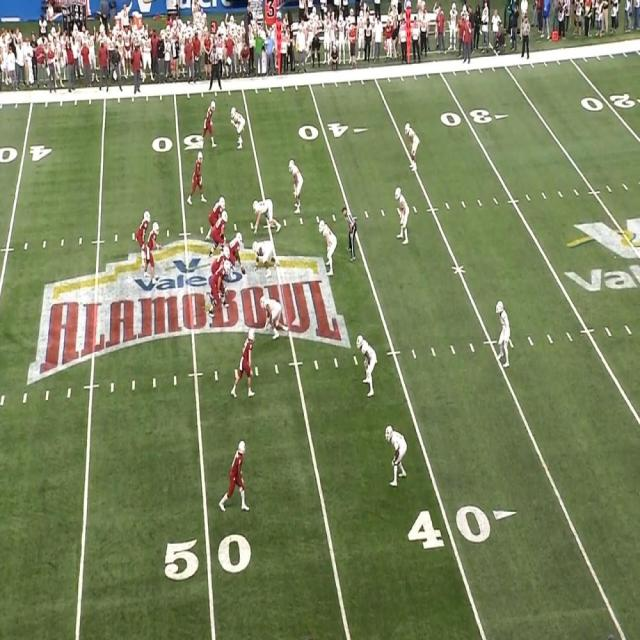center: (228, 233, 245, 267)
db: (385, 424, 409, 484), (494, 299, 511, 367), (395, 188, 413, 240), (404, 121, 422, 169), (231, 105, 246, 150)
lb: (356, 336, 377, 396), (318, 219, 336, 273), (288, 161, 303, 209)
qb: (148, 218, 162, 284)
